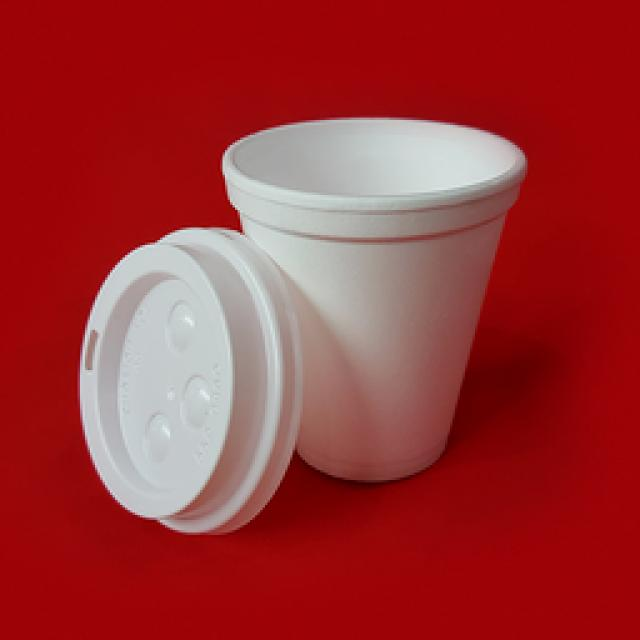inorganic: (206, 117, 514, 483)
